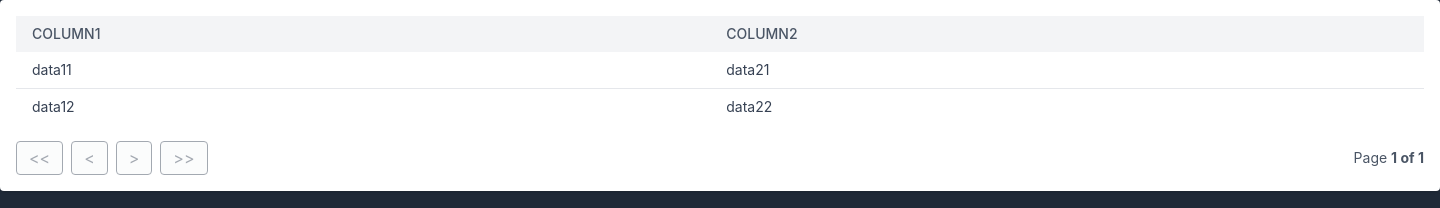
Test: Krm3Table › renders arrow for sorting
The width and height of the screenshot is (1440, 208).
Click the column heading with test id "header-column1".
click(66, 34)  # box [16,16,710,52]
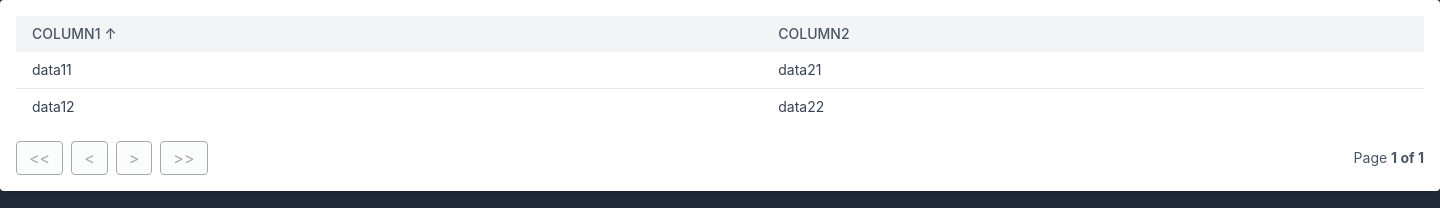
Check: the text "↑" is shown, box [104,24,116,44]
Click the column heading with test id "header-column1".
click(66, 34)  # box [16,16,762,52]
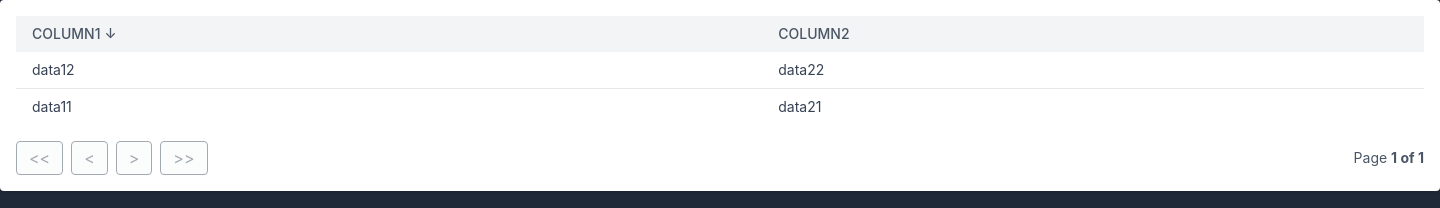
Check: the text "↓" is shown, box [104,24,116,44]
